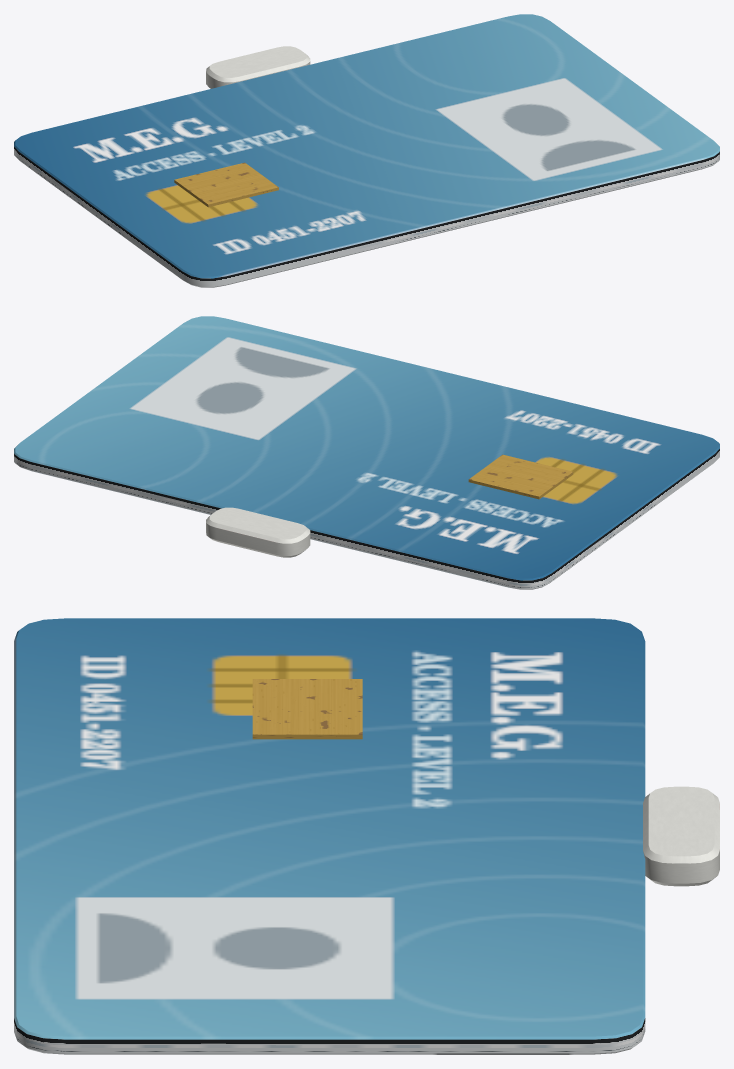
File: keycard.obj
The picture shows the model from 3 angles, top to bottom: view 1: azimuth 30°, elevation 25°; view 2: azimuth 150°, elevation 25°; view 3: azimuth 270°, elevation 25°; orthographic projection. The views are drawn at different scales.
Parts seen in each view (by area): view 1: keycard_0_surface, keycard_1_surface; view 2: keycard_0_surface, keycard_1_surface; view 3: keycard_0_surface, keycard_1_surface.
Boxes of the visible parts, x1,y1,x2,y2 form: keycard_0_surface: (14,14,719,287); keycard_1_surface: (174,162,278,207); keycard_0_surface: (14,316,719,589); keycard_1_surface: (468,454,573,499); keycard_0_surface: (14,618,719,1054); keycard_1_surface: (252,679,362,739).
Size of the model in its own units: 0.1808 by 0.006 by 0.1284.
Materials: 2 (2 with a texture image).
